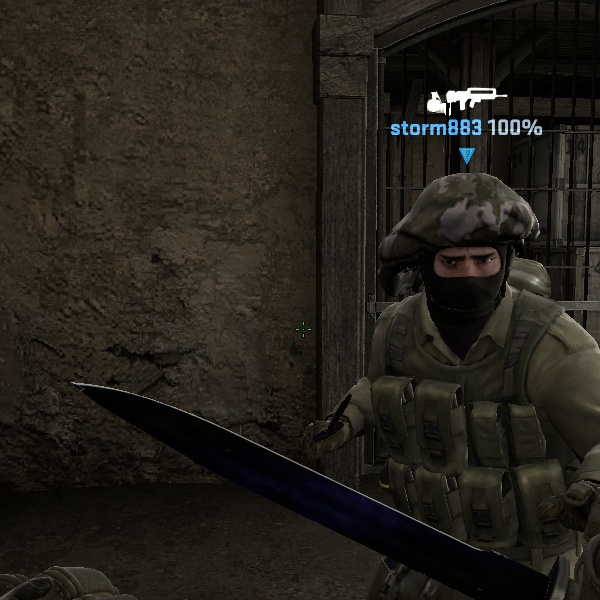ct_body: (297, 163, 600, 595)
ct_head: (388, 164, 548, 331)
